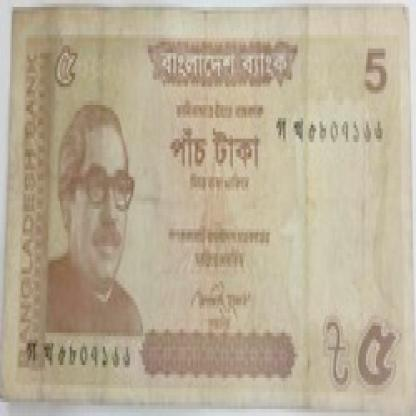Five Taka: (351, 312, 401, 402), (48, 35, 82, 94), (361, 35, 388, 100)
